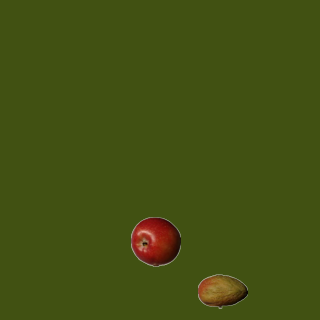Apple Braeburn: (130, 216, 180, 266)
Papaya: (197, 266, 247, 316)
